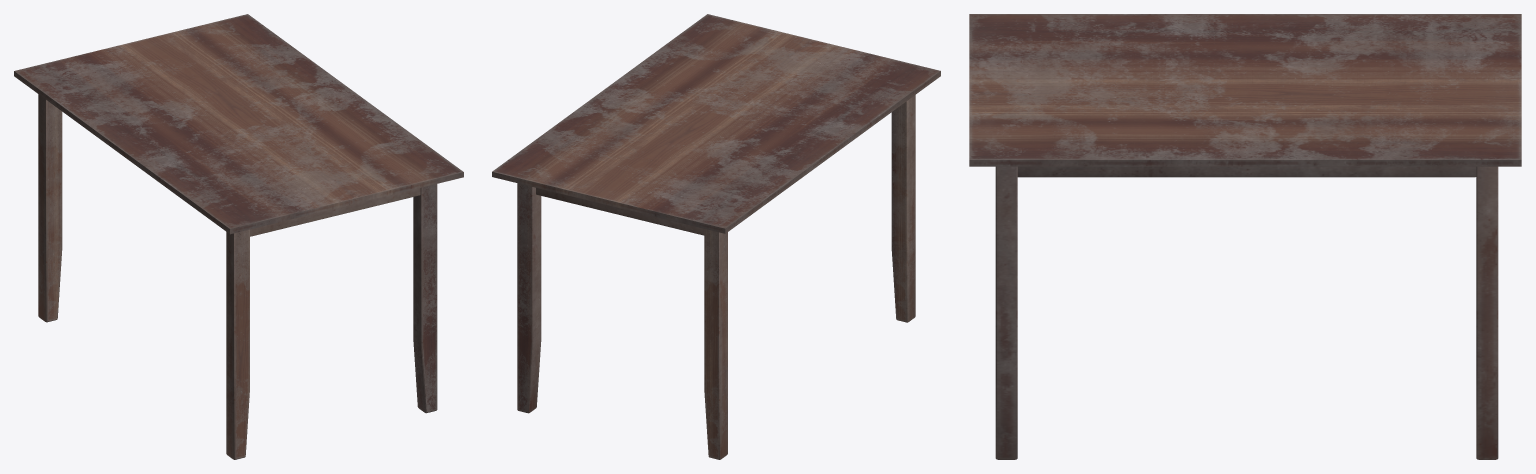
File: SM_Table_02.fbx
3 renders of one model, left to right at view 1: azimuth 30°, elevation 25°; view 2: azimuth 150°, elevation 25°; view 3: azimuth 270°, elevation 25°, orthographic. The views are drawn at different scales.
Parts seen in each view (by area): view 1: SM_Table_02; view 2: SM_Table_02; view 3: SM_Table_02.
Boxes of the visible parts, bbox=[...] form: SM_Table_02: bbox=[14, 14, 463, 459]; SM_Table_02: bbox=[492, 14, 940, 459]; SM_Table_02: bbox=[969, 14, 1521, 459].
Bounding box in the file's own units: 119 × 191 × 118.
Materials: 1 (1 with a texture image).
